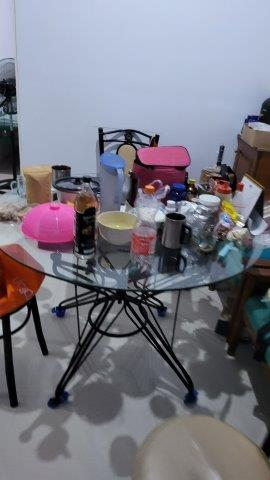botolkaca: (73, 175, 97, 258)
